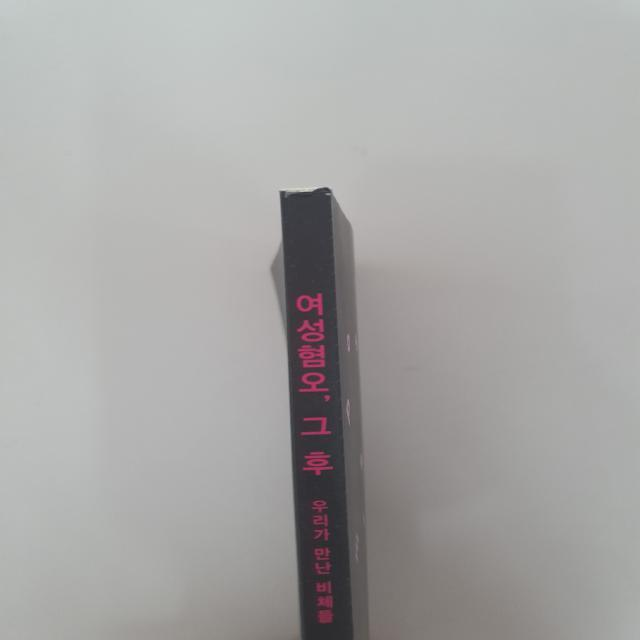Wornout: (269, 171, 343, 209)
